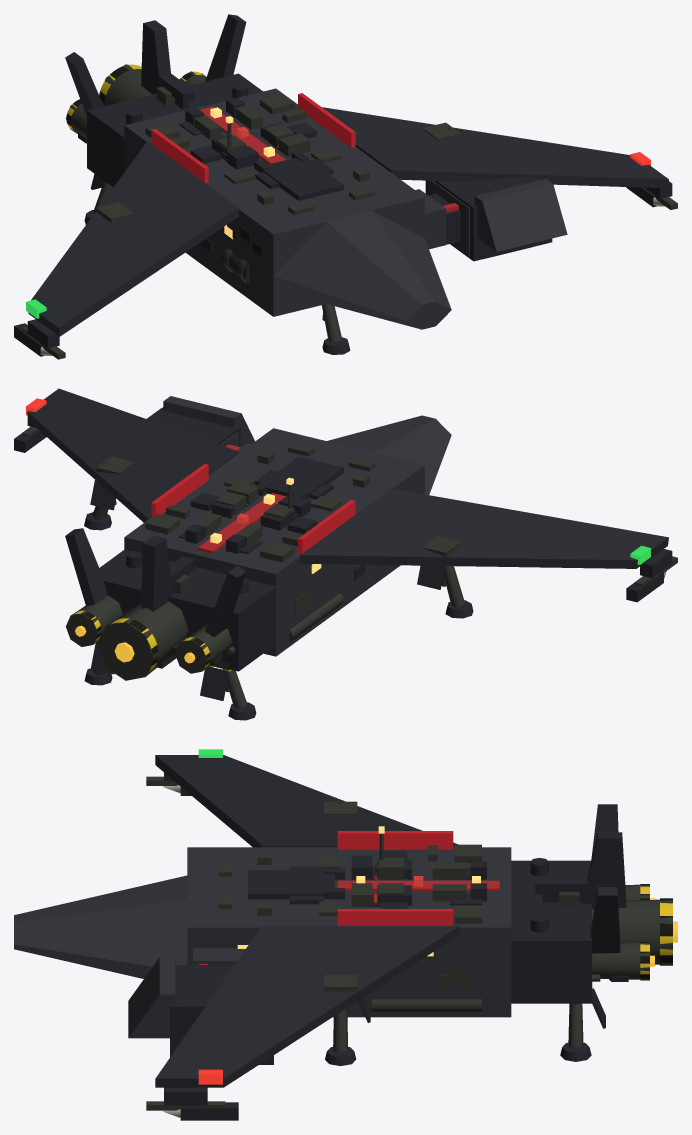
The model's file is runner-m.glb.
3 renders of one model, top to bottom at view 1: azimuth 30°, elevation 25°; view 2: azimuth 150°, elevation 25°; view 3: azimuth 270°, elevation 25°, orthographic. The views are drawn at different scales.
Visible parts, largest first — view 1: hullMain, wingLeft, wingRight, hullForebody, bridgeNoseCap, aftPlug, hullNose, noseSensor, stabilizerVert, stabilizerFinR, engineHousing, synDecalR (+11 smaller); view 2: wingLeft, hullMain, wingRight, engineHousing (×3), aftPlug, hullForebody, stabilizerVert, noseSensor, gearBayDoor (×3), stabilizerFinR, bridgeNoseCap, hullNose (+11 smaller); view 3: hullMain, wingRight, hullForebody, wingLeft, aftPlug, engineHousing (×2), bridgeNoseCap, hullNose, noseSensor, stabilizerVert, synDecalL, synDecalR (+13 smaller).
Part boxes in pixels (left/top/right/bottom): hullMain: left=124, top=88, right=424, bottom=316; wingLeft: left=28, top=141, right=239, bottom=336; wingRight: left=322, top=107, right=668, bottom=188; hullForebody: left=273, top=210, right=451, bottom=329; bridgeNoseCap: left=474, top=179, right=567, bottom=251; aftPlug: left=87, top=73, right=262, bottom=187; hullNose: left=425, top=176, right=552, bottom=261; noseSensor: left=258, top=157, right=343, bottom=200; stabilizerVert: left=141, top=20, right=170, bottom=94; stabilizerFinR: left=205, top=14, right=246, bottom=81; engineHousing: left=101, top=64, right=151, bottom=106; synDecalR: left=298, top=93, right=355, bottom=147; wingLeft: left=299, top=488, right=668, bottom=568; hullMain: left=124, top=428, right=424, bottom=656; wingRight: left=27, top=388, right=238, bottom=522; engineHousing (×3): left=66, top=595, right=232, bottom=680; aftPlug: left=99, top=549, right=275, bottom=671; hullForebody: left=327, top=415, right=451, bottom=494; stabilizerVert: left=141, top=535, right=173, bottom=611; noseSensor: left=265, top=456, right=343, bottom=499; gearBayDoor (×3): left=90, top=475, right=445, bottom=700; stabilizerFinR: left=65, top=528, right=107, bottom=605; bridgeNoseCap: left=163, top=396, right=254, bottom=447; hullNose: left=147, top=407, right=240, bottom=447; hullMain: left=187, top=847, right=511, bottom=1017; wingRight: left=155, top=926, right=459, bottom=1087; hullForebody: left=14, top=875, right=187, bottom=978; wingLeft: left=155, top=755, right=458, bottom=847; aftPlug: left=511, top=860, right=591, bottom=1003; engineHousing (×2): left=592, top=899, right=672, bottom=979; bridgeNoseCap: left=128, top=957, right=176, bottom=1038; hullNose: left=170, top=965, right=273, bottom=1064; noseSensor: left=248, top=870, right=334, bottom=899; stabilizerVert: left=583, top=832, right=626, bottom=908; synDecalL: left=337, top=831, right=453, bottom=849; synDecalR: left=337, top=909, right=453, bottom=925.
Bounding box in the file's own units: 5.15 × 1.5 × 4.36.
